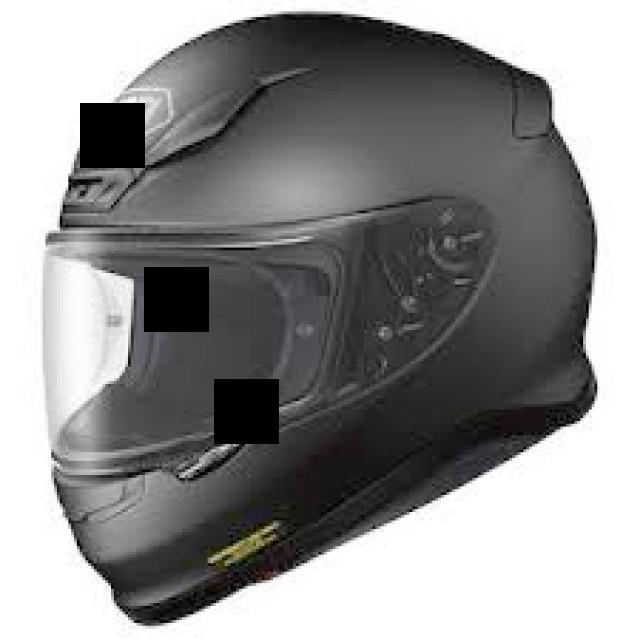helmet on: (46, 16, 595, 623)
